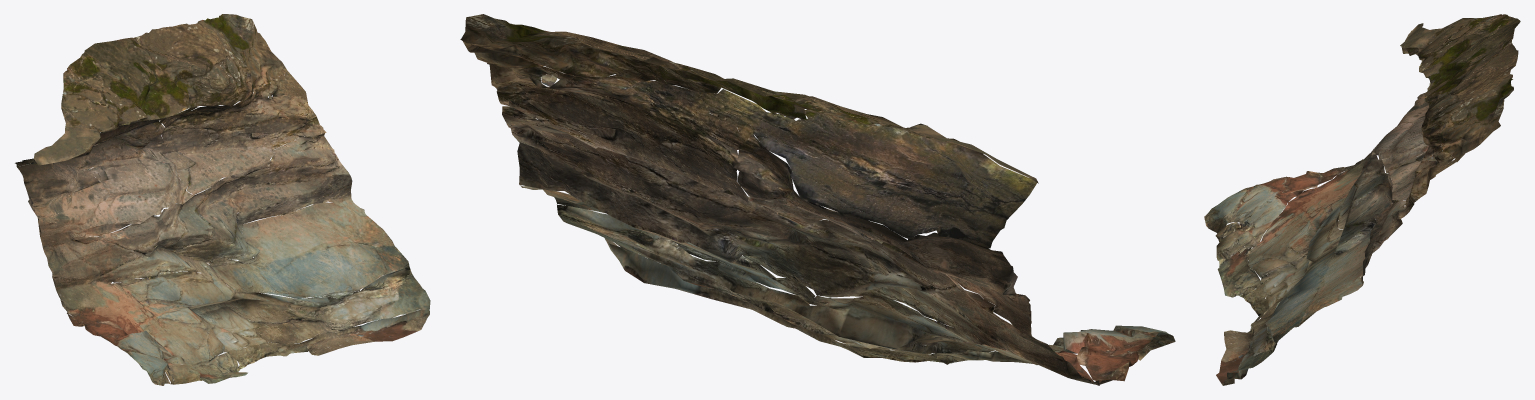
3 views of the same model, side by side, from view 1: azimuth 30°, elevation 25°; view 2: azimuth 150°, elevation 25°; view 3: azimuth 270°, elevation 25° (orthographic). The views are drawn at different scales.
Parts seen in each view (by area): view 1: pr_face_a_LOD0; view 2: pr_face_a_LOD0; view 3: pr_face_a_LOD0.
Boxes of the visible parts, x1=… form: pr_face_a_LOD0: x1=15, y1=14, x2=430, y2=385; pr_face_a_LOD0: x1=460, y1=14, x2=1175, y2=385; pr_face_a_LOD0: x1=1204, y1=14, x2=1520, y2=385.
Size of what is drawn, in the model's own units: 4.95 by 3.58 by 3.83.
